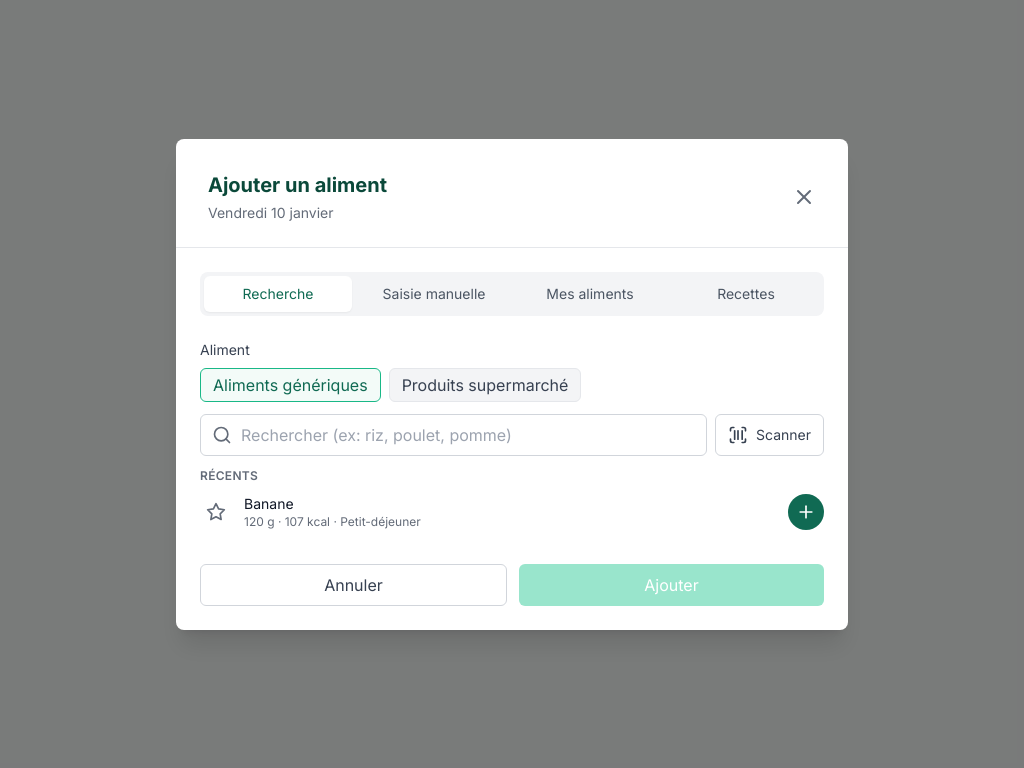
AddEntryModal › favoris et récents › ajoute un aliment récent en un tap, avec sa quantité et son repas habituels, sans fermer
Click the button named "Ajouter « Banane » (120 g) au journal" at (806, 512), box [788, 494, 824, 530]
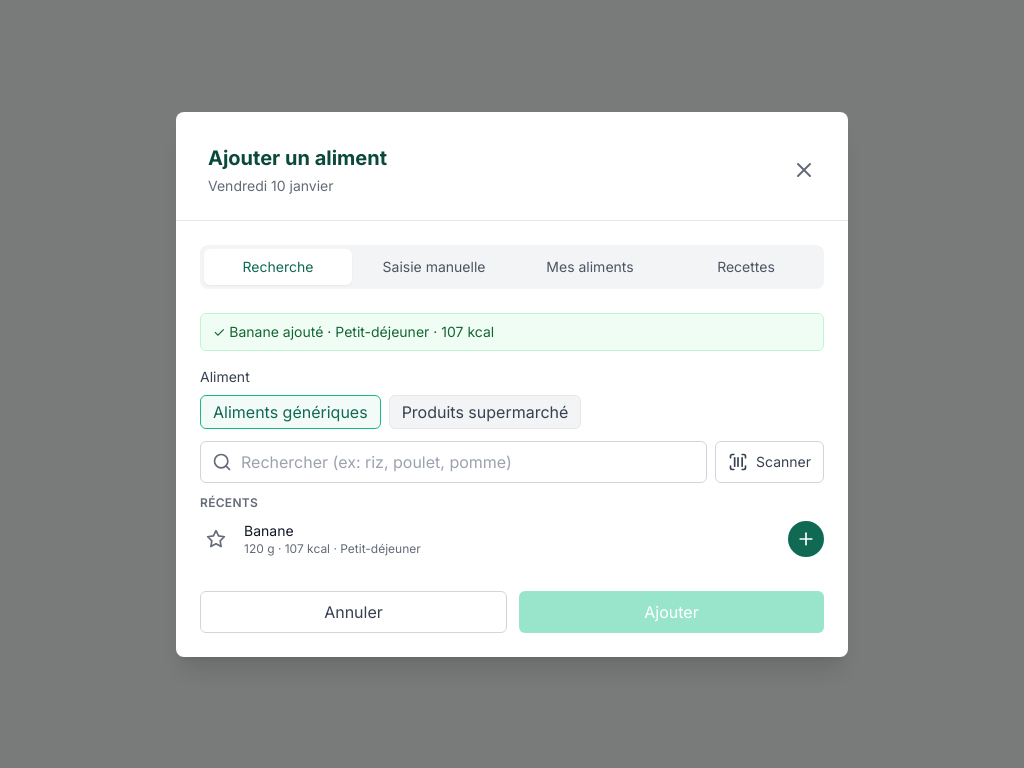
Now the message reads "✓ Banane ajouté · Petit-déjeuner · 107 kcal", box [200, 312, 824, 350]
